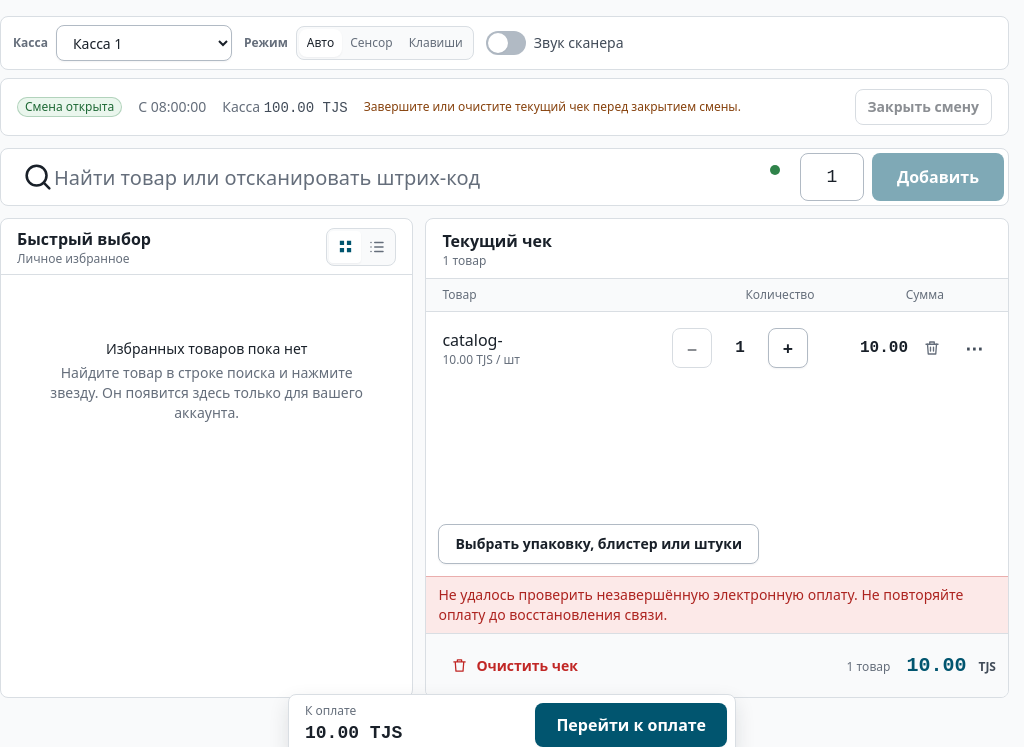
Test: POSPage › preserves a non-empty draft before switching to another register
This screenshot has width=1024, height=747.
Expected: the heading "Текущий чек" is shown, [442,228,552,252]
Select "Касса 2" in the dropdown labelled "Касса" at (144, 43), box [56,25,232,61]
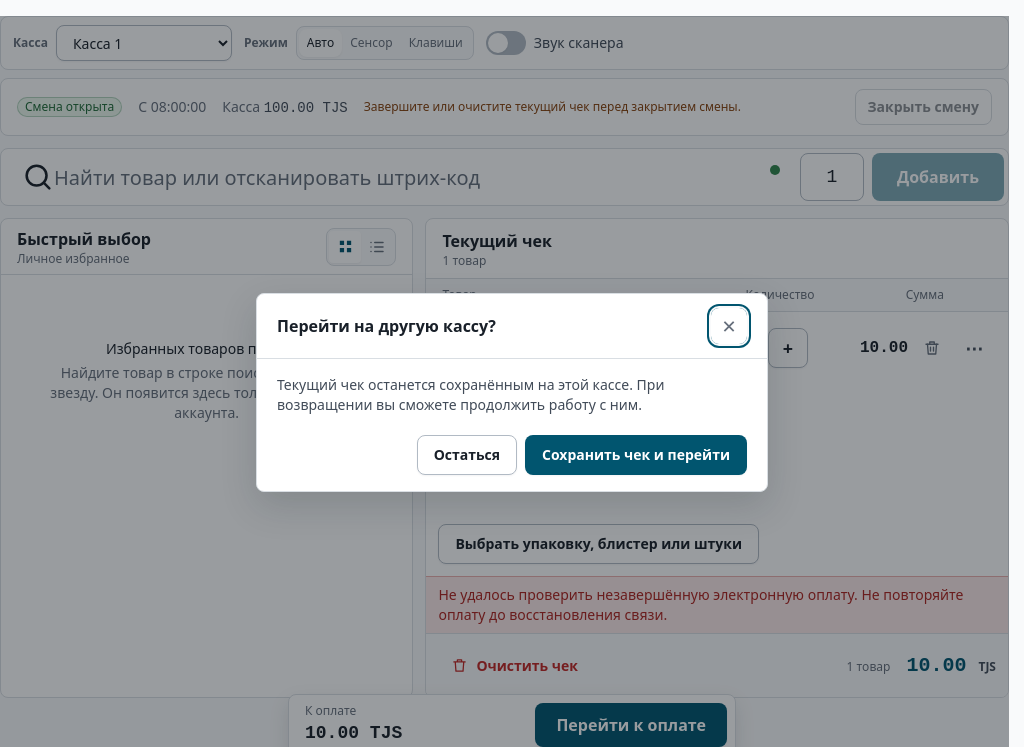
Expected: the dialog "Перейти на другую кассу?" is shown, [256,292,768,492]
Click the button "Сохранить чек и перейти".
click(636, 454)  # box [525,434,747,474]
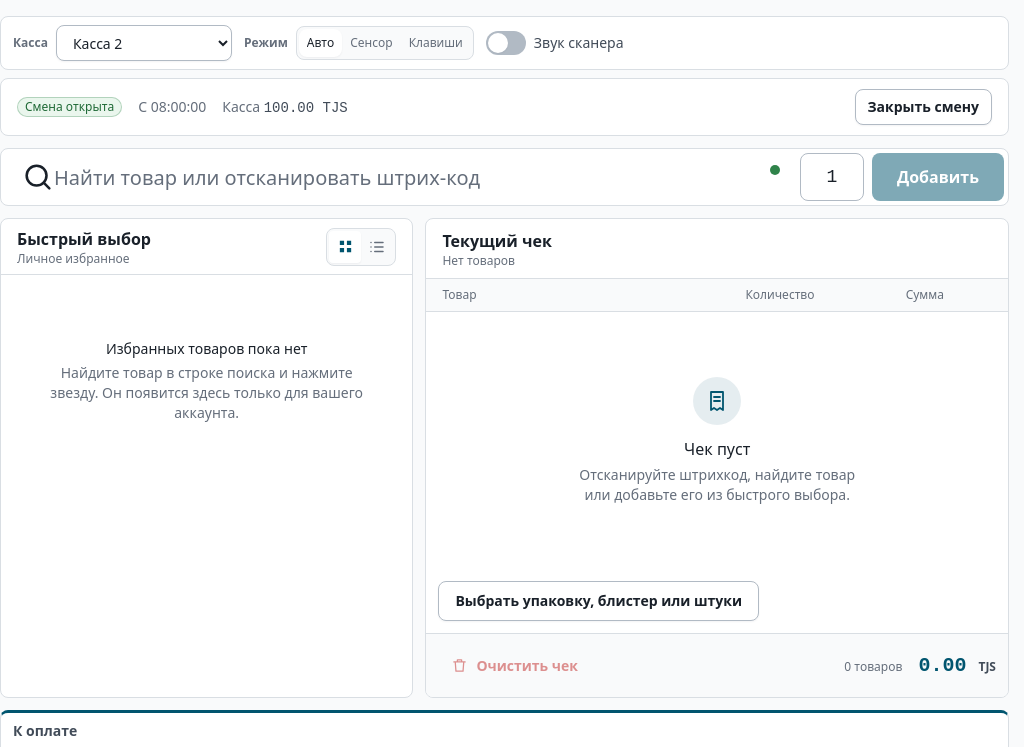
Expected: the dropdown labelled "Касса" shows "Касса 2", [56,25,232,61]
